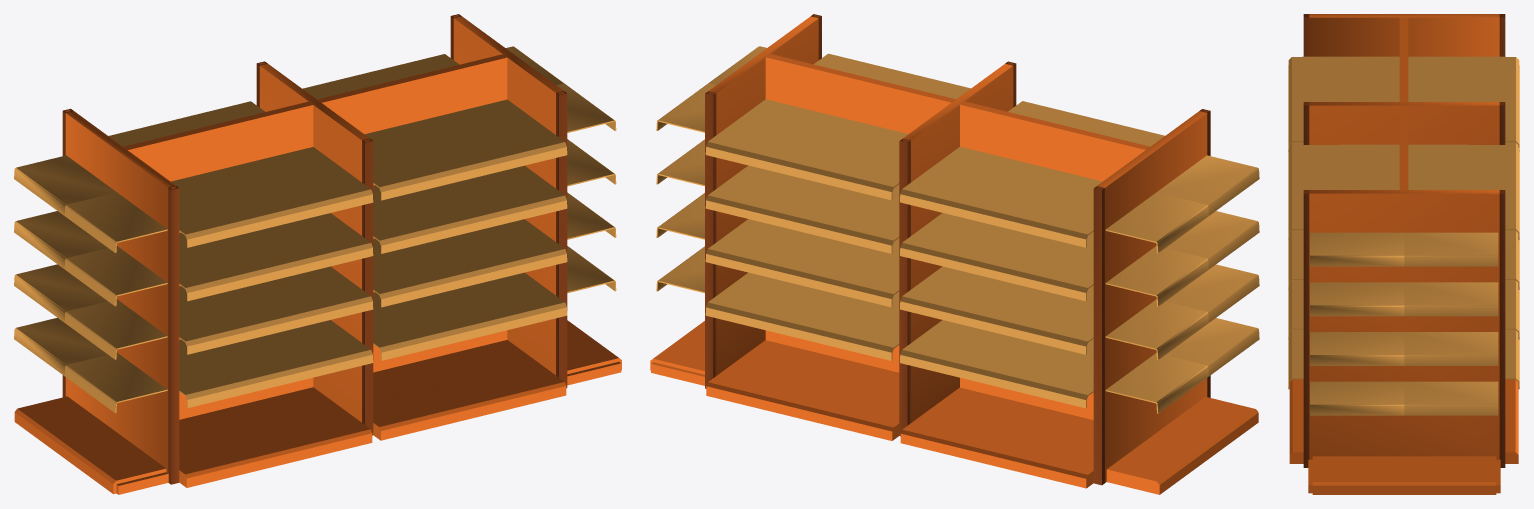
File: Shelf 2.fbx
3 views of the same model, side by side, from view 1: azimuth 30°, elevation 25°; view 2: azimuth 150°, elevation 25°; view 3: azimuth 270°, elevation 25° (orthographic). The views are drawn at different scales.
Visible parts, largest first — view 1: Node 0; view 2: Node 0; view 3: Node 0.
Part boxes in pixels (x1,y1,x2,y2): Node 0: (14, 14, 621, 494); Node 0: (650, 14, 1259, 494); Node 0: (1288, 14, 1519, 494).
Size of the model in its own units: 1.15 by 1.5 by 2.71.
